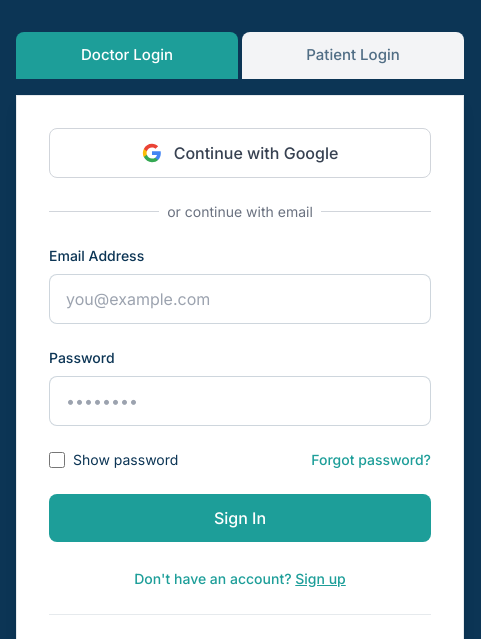
it: LoginScreen › sign up mode › switches to sign up mode when clicked
Step 1. Click the text "Sign up" → (321,578), box [295,570,346,586]
(page scrolled)
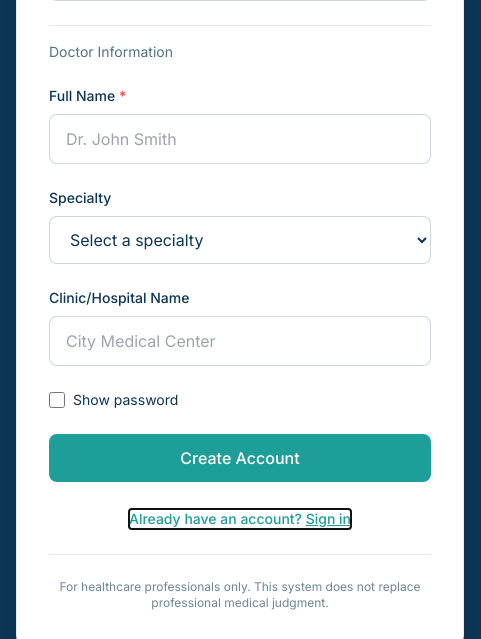
Now the button "Create Account" is shown, box [49,434,431,482]
